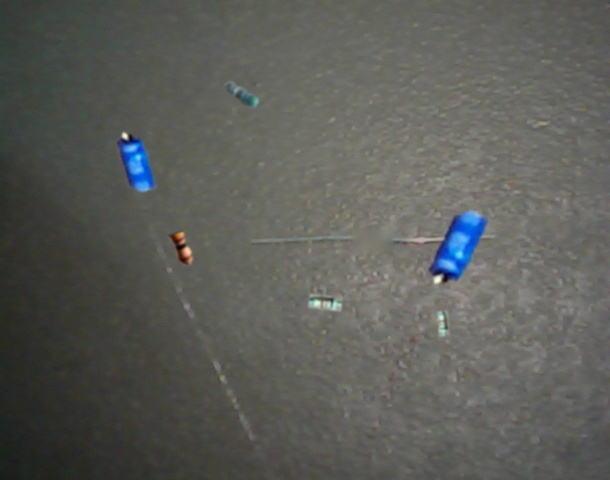capacitor: (429, 211, 489, 284), (117, 132, 156, 192)
resistor: (224, 81, 259, 107), (168, 231, 193, 266), (308, 294, 343, 311), (437, 311, 450, 336)
